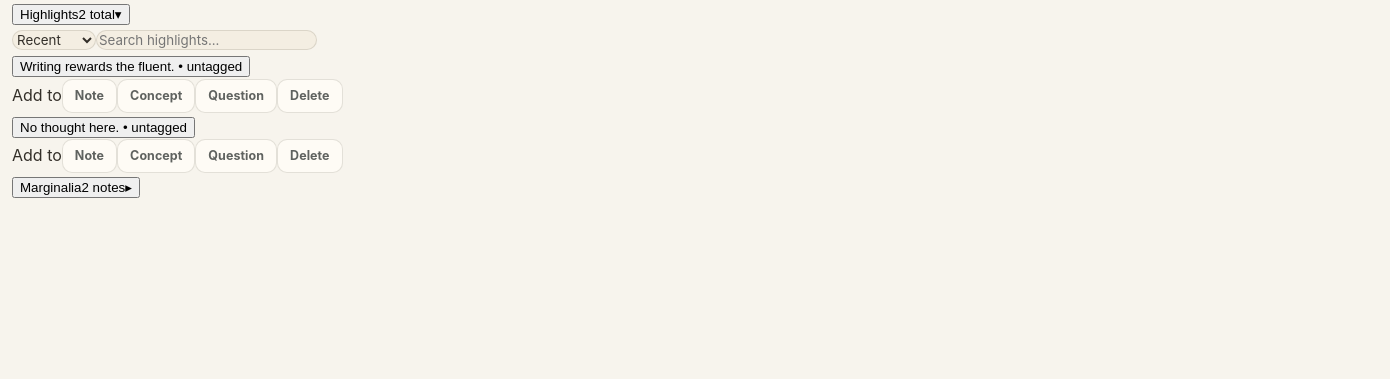
Test case: LibraryContext › counts a thought written beside a highlight as marginalia
The width and height of the screenshot is (1390, 379).
Step 1. Click the button "Marginalia2 notes▸" → point(76, 187), box [12,177,140,198]
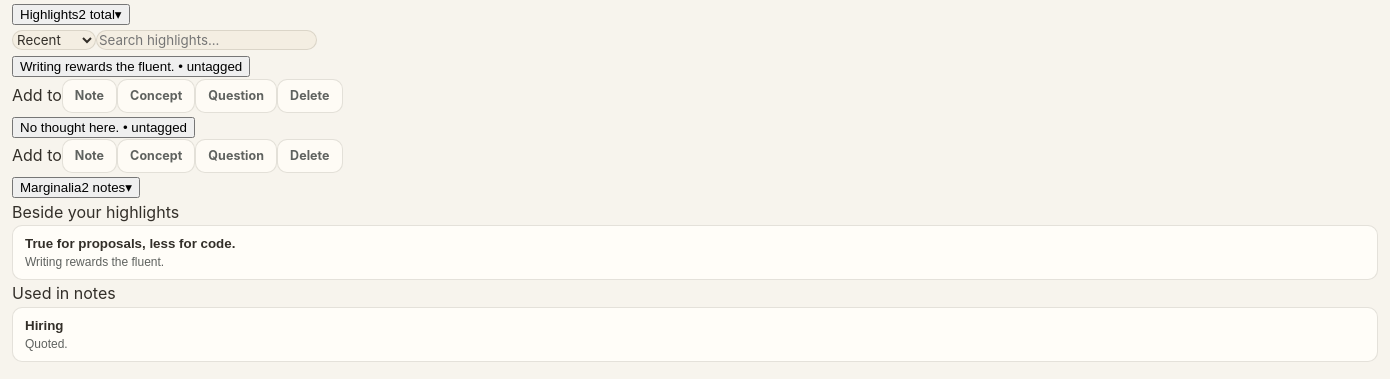
Expected: the text "Beside your highlights" is shown, [12,202,179,222]
Expected: the text "True for proposals, less for code." is shown, [25,236,235,251]
